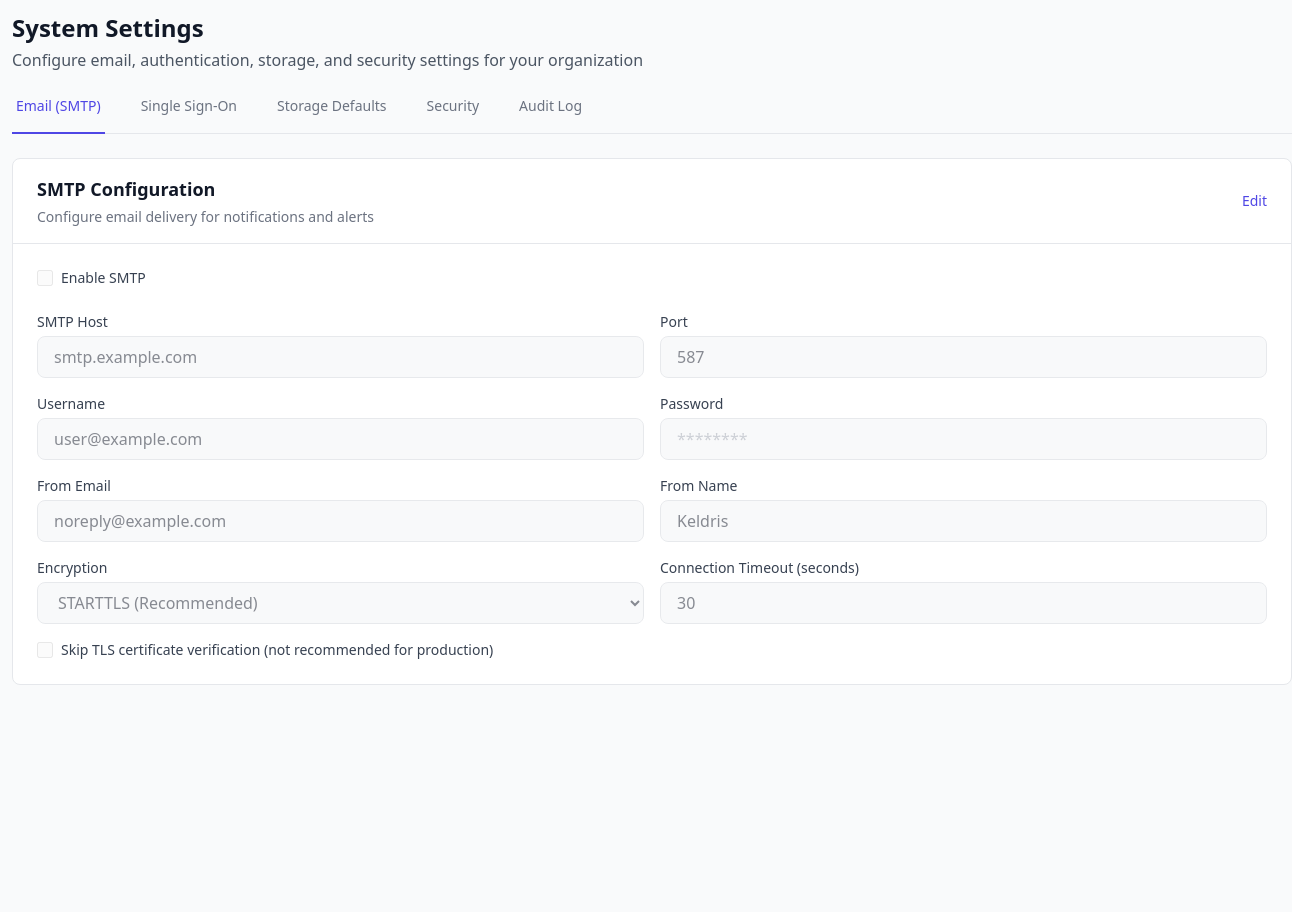
Scenario: SystemSettings page › tab rendering › switches to OIDC tab on click
The width and height of the screenshot is (1292, 912).
Step 1. Click the button "Single Sign-On" → click(189, 115), box [137, 96, 241, 134]
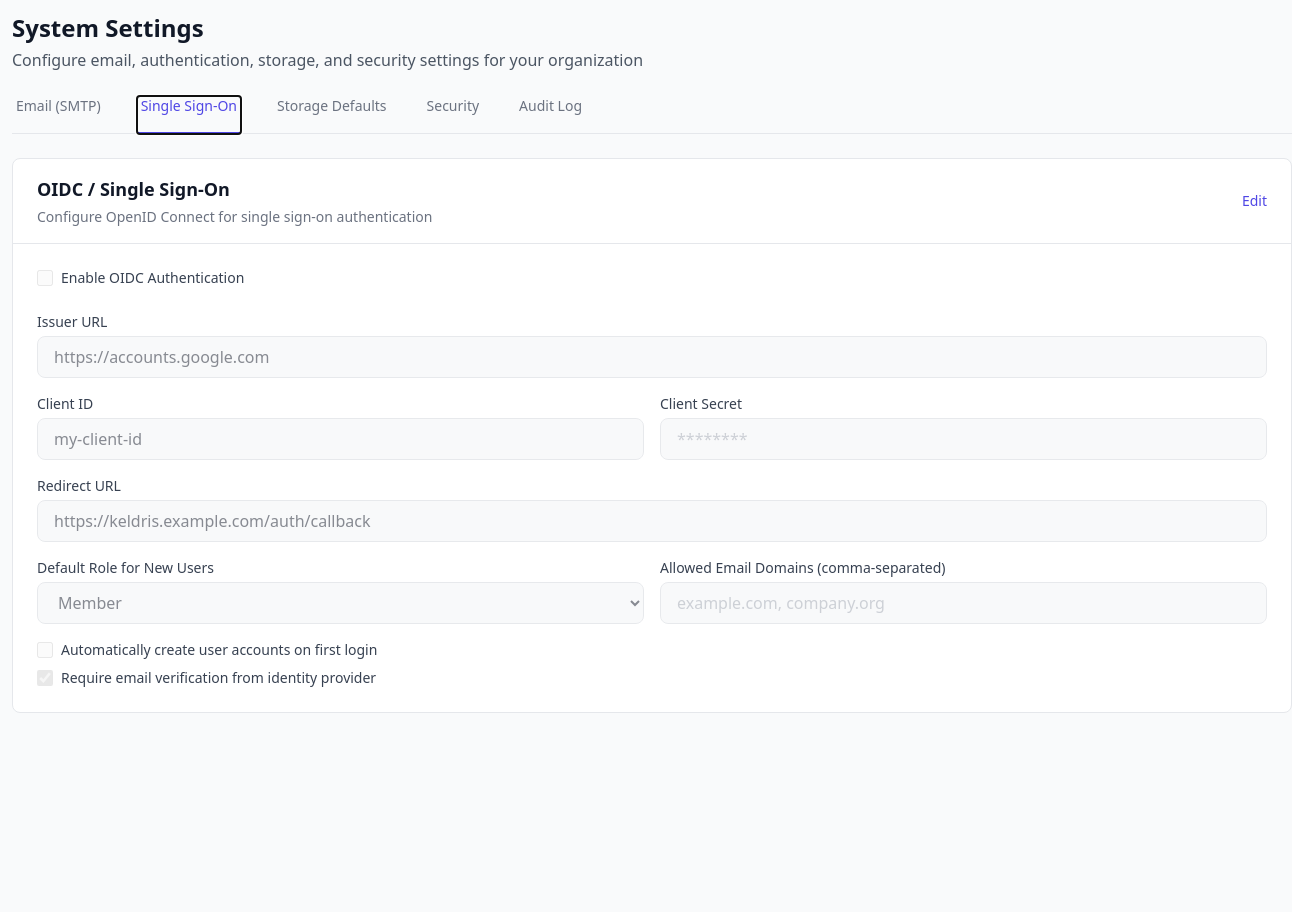
Expected: the heading "OIDC / Single Sign-On" is shown, [37, 177, 230, 201]
